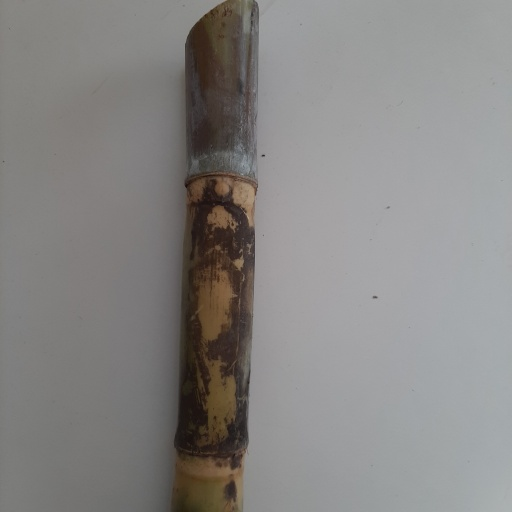Bud: (208, 178, 235, 204)
